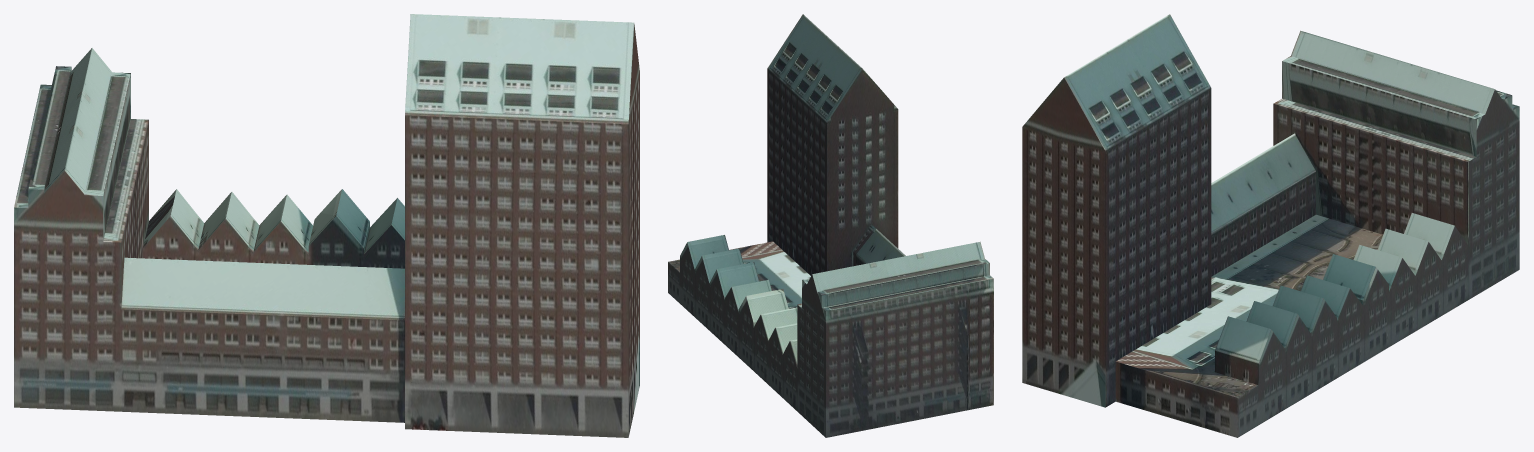
File: {23087D98-821C-49DD-AAE2-2A6398D311C1}.gltf
3 renders of one model, left to right at view 1: azimuth 30°, elevation 25°; view 2: azimuth 150°, elevation 25°; view 3: azimuth 270°, elevation 25°, orthographic. The views are drawn at different scales.
Visible parts, largest first — view 1: Z_UP; view 2: Z_UP; view 3: Z_UP.
Part boxes in pixels (bbox=[...]): Z_UP: bbox=[14, 14, 639, 437]; Z_UP: bbox=[668, 14, 993, 437]; Z_UP: bbox=[1022, 14, 1519, 437].
Bounding box in the file's own units: 85.51 × 55.98 × 79.33.
Materials: 17 (16 with a texture image).
